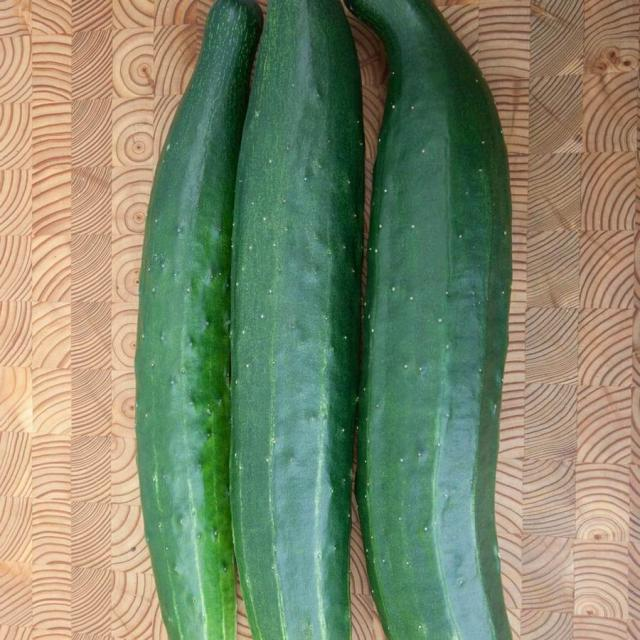Cucumber: (336, 1, 519, 640), (108, 0, 260, 640), (224, 0, 366, 640)
